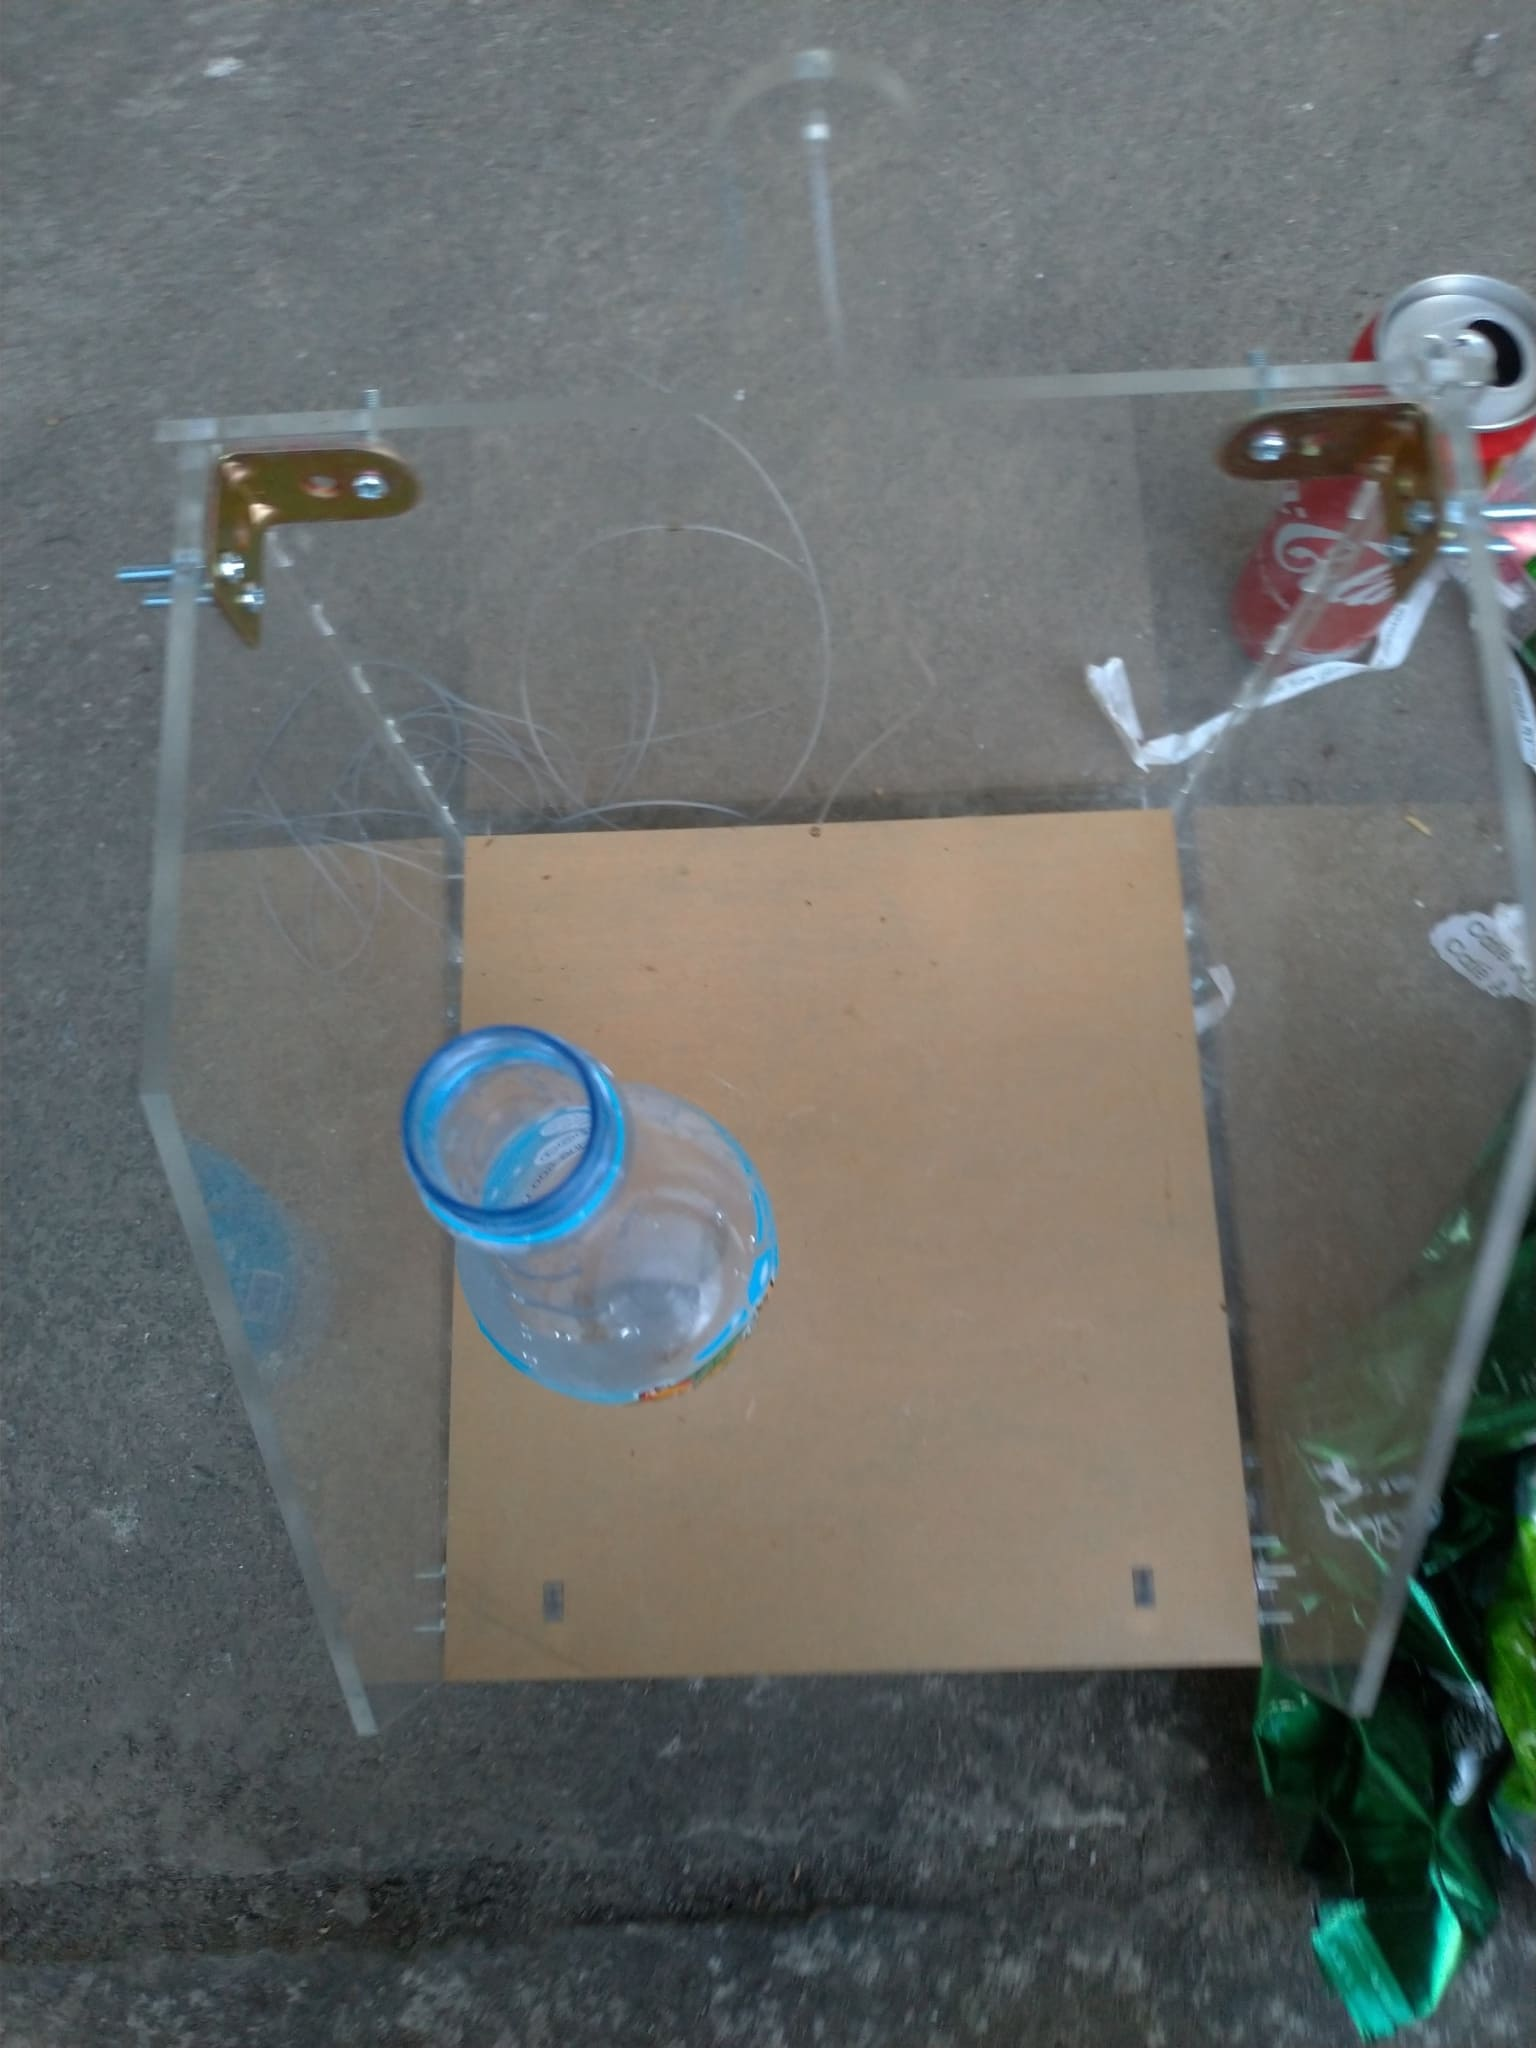AlCan: (1229, 277, 1536, 660)
Others: (1246, 1129, 1534, 2048), (1092, 581, 1459, 764), (1430, 906, 1533, 1006)
PlasticBottle: (403, 1032, 778, 1409)
